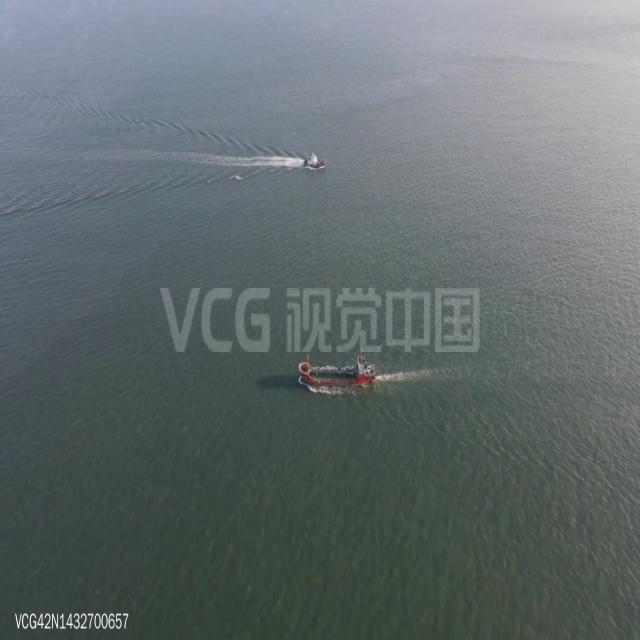cargoship: (297, 345, 381, 395), (304, 147, 326, 170)
